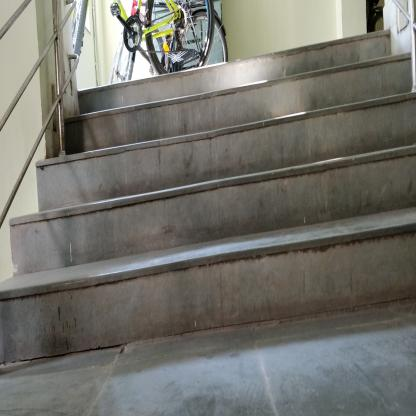stairs: (99, 74, 402, 329)
